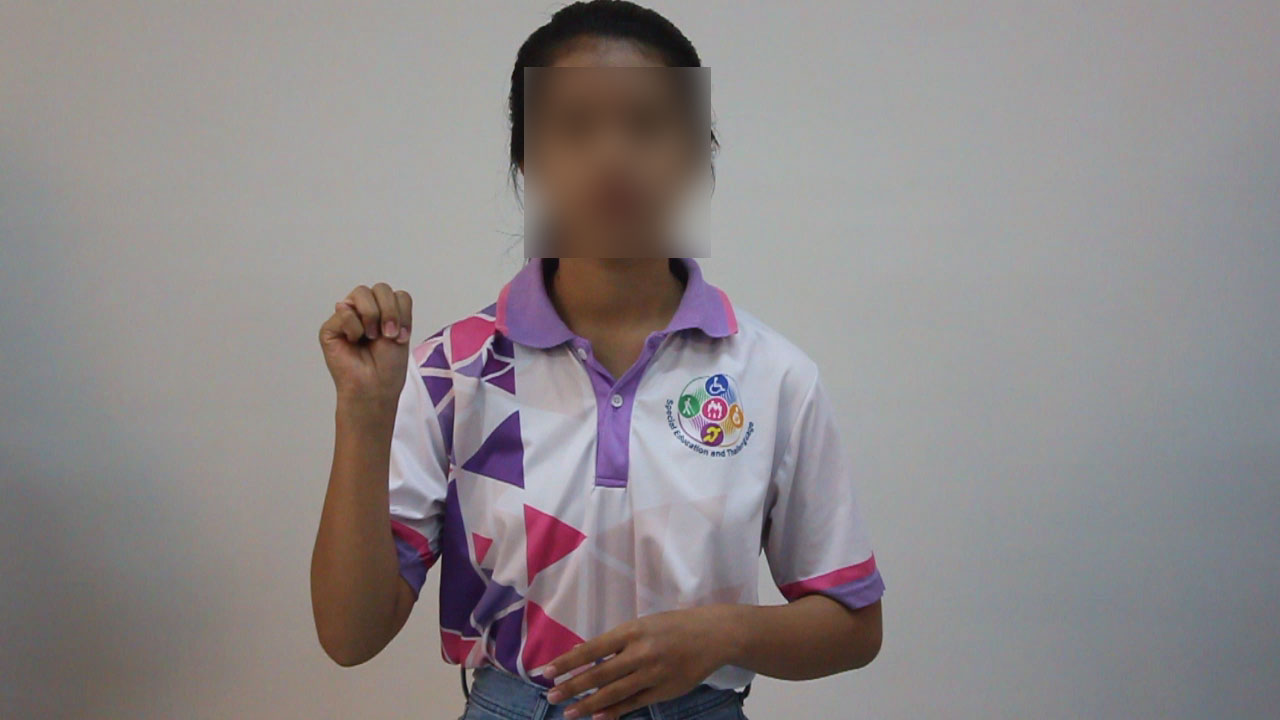mor: (297, 246, 438, 423)
